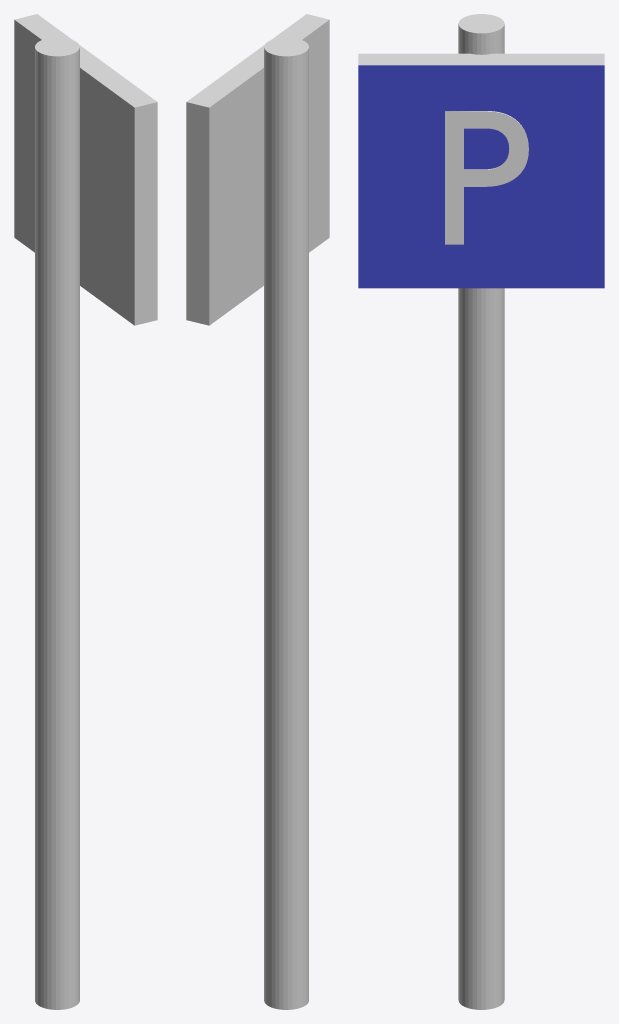
Rendered from SignParking.fbx.
3 renders of one model, left to right at view 1: azimuth 30°, elevation 25°; view 2: azimuth 150°, elevation 25°; view 3: azimuth 270°, elevation 25°, orthographic. The views are drawn at different scales.
Visible parts, largest first — view 1: Cylinder.018, SignSquare.001; view 2: Cylinder.018, SignSquare.001; view 3: SignSquare.001, Cylinder.018, TextStop.014.
Part boxes in pixels (x1,y1,x2,y2): Cylinder.018: [35, 37, 79, 1009]; SignSquare.001: [14, 14, 157, 325]; Cylinder.018: [264, 37, 308, 1009]; SignSquare.001: [186, 14, 329, 325]; SignSquare.001: [358, 53, 604, 288]; Cylinder.018: [458, 14, 504, 1009]; TextStop.014: [445, 111, 528, 244].
Size of the model in its own units: 111 by 1671 by 382.
